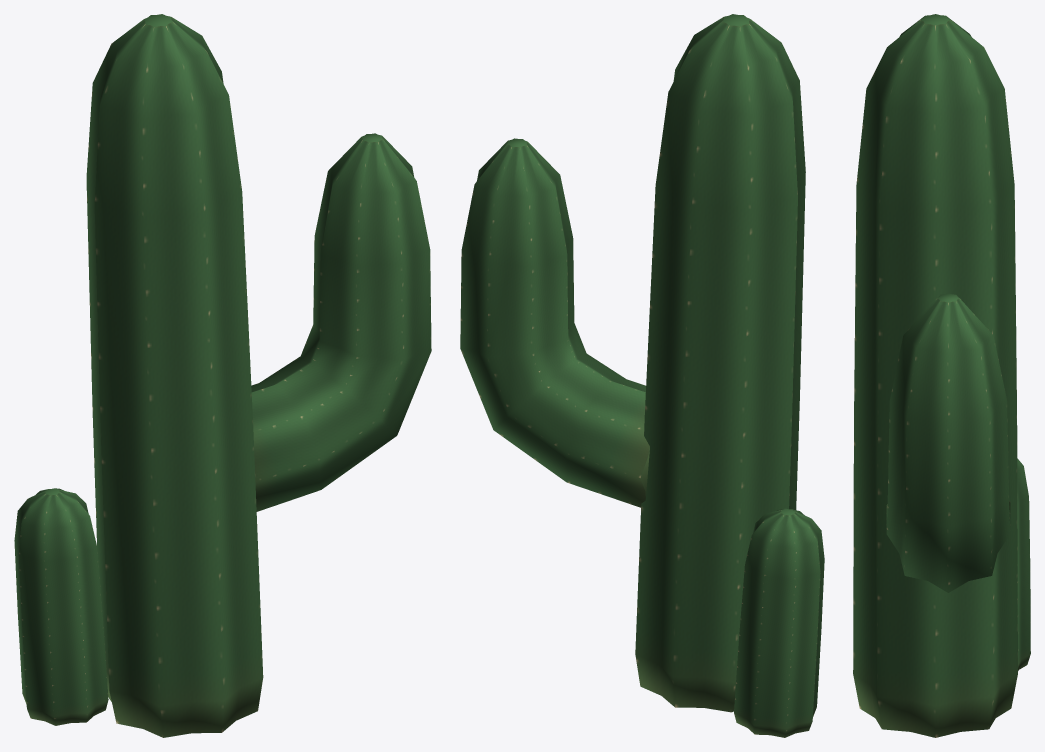
Rendered from Cactus Young.fbx.
3 renders of one model, left to right at view 1: azimuth 30°, elevation 25°; view 2: azimuth 150°, elevation 25°; view 3: azimuth 270°, elevation 25°, orthographic. The views are drawn at different scales.
Parts seen in each view (by area): view 1: Cactus Young; view 2: Cactus Young; view 3: Cactus Young.
Boxes of the visible parts, x1,y1,x2,y2 form: Cactus Young: (14,14,431,737); Cactus Young: (460,14,824,737); Cactus Young: (853,14,1030,737).
Size of the model in its own units: 85.02 by 146 by 34.5.
